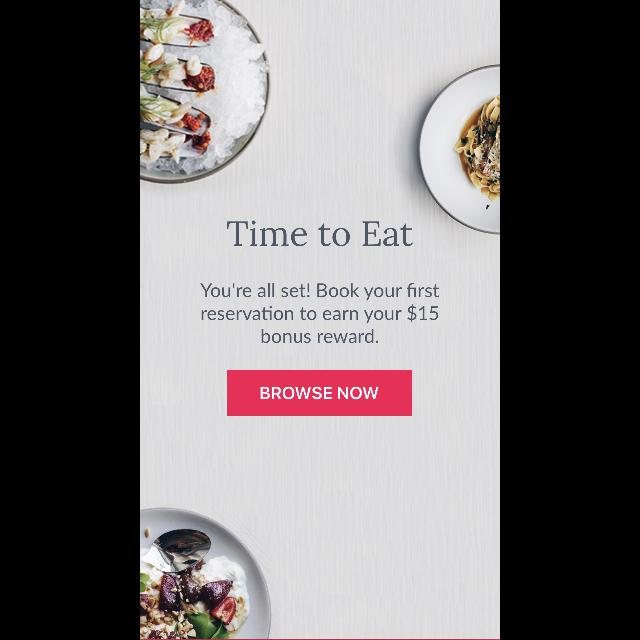backgroundimage: (140, 1, 500, 640)
image: (140, 1, 272, 185), (140, 506, 272, 640), (418, 64, 500, 236)
text: (200, 283, 440, 343), (227, 221, 413, 247)
textbutton: (228, 370, 412, 416)
